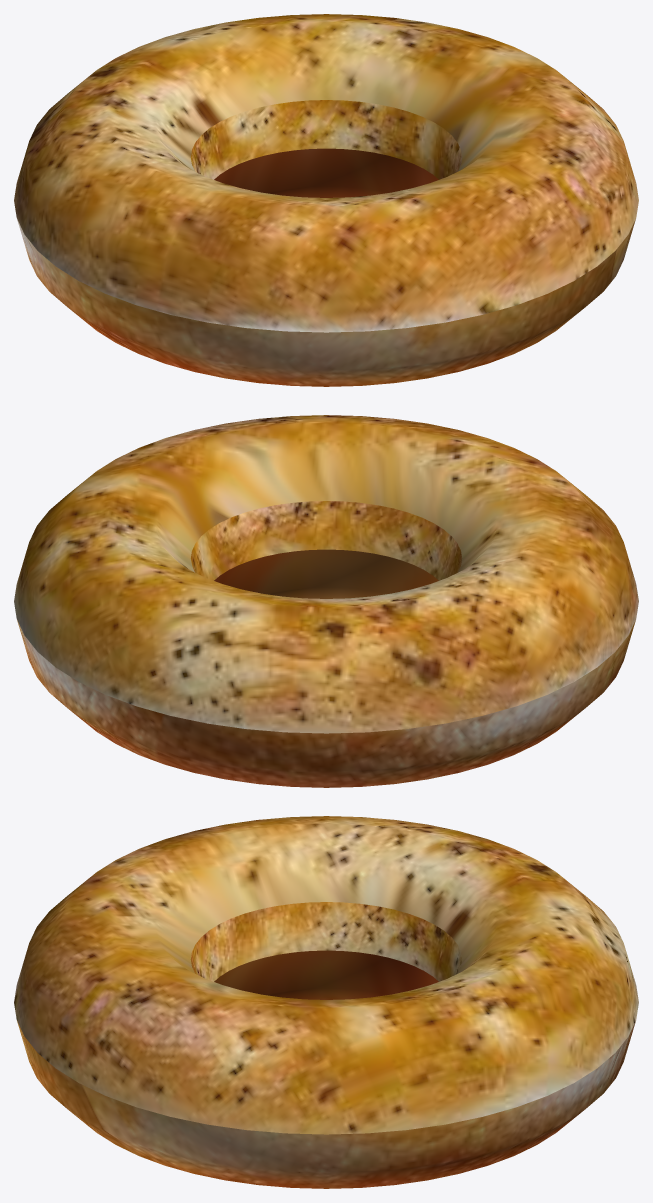
The model's file is bagel.glb.
3 renders of one model, top to bottom at view 1: azimuth 30°, elevation 25°; view 2: azimuth 150°, elevation 25°; view 3: azimuth 270°, elevation 25°, orthographic.
Visible parts, largest first — view 1: Object_2; view 2: Object_2; view 3: Object_2.
Part boxes in pixels (x1,y1,x2,y2): Object_2: (14, 14, 638, 386); Object_2: (14, 415, 638, 787); Object_2: (14, 816, 638, 1188).
Bounding box in the file's own units: 0.8668 × 0.263 × 0.8668.
1 material, 1 textured.
